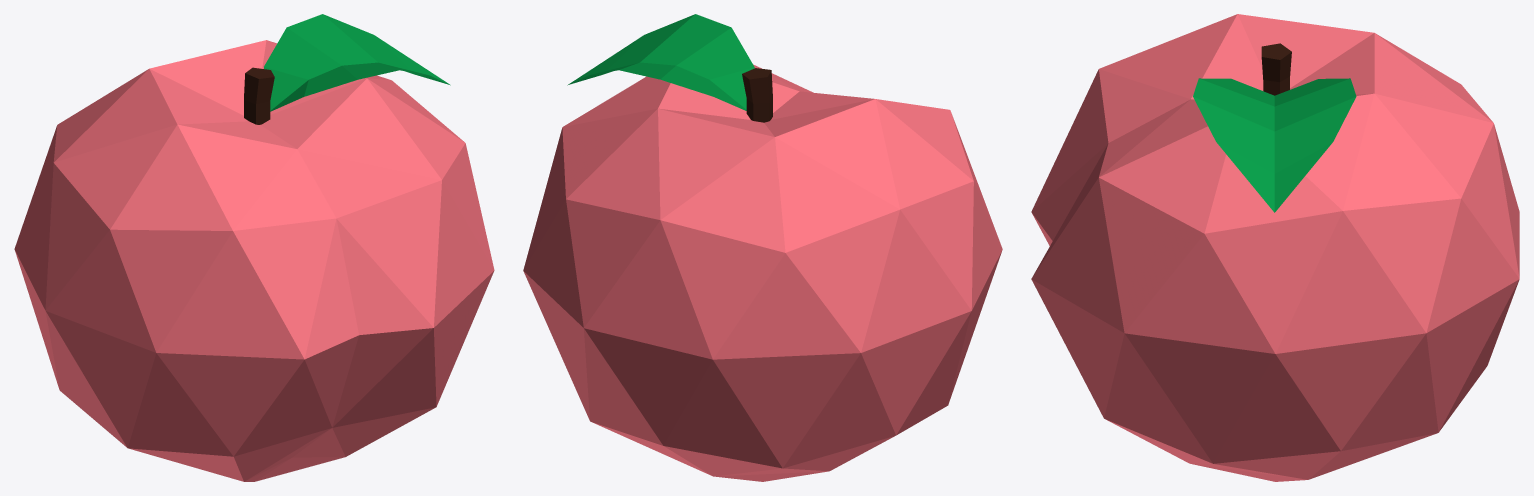
Rendered from peach.fbx.
3 renders of one model, left to right at view 1: azimuth 30°, elevation 25°; view 2: azimuth 150°, elevation 25°; view 3: azimuth 270°, elevation 25°, orthographic. The views are drawn at different scales.
Parts seen in each view (by area): view 1: peach; view 2: peach; view 3: peach.
Part boxes in pixels (bbox=[...]): peach: bbox=[14, 14, 494, 481]; peach: bbox=[523, 14, 1002, 481]; peach: bbox=[1031, 14, 1519, 481].
Size of the model in its own units: 133 by 126 by 127.
